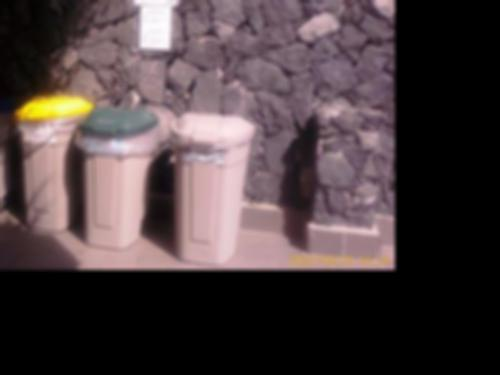Bote de Basura: (169, 112, 256, 267), (80, 106, 161, 251), (20, 98, 99, 236), (0, 92, 19, 224)
